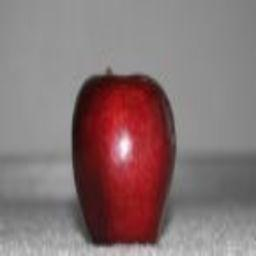apple: (71, 74, 176, 244)
